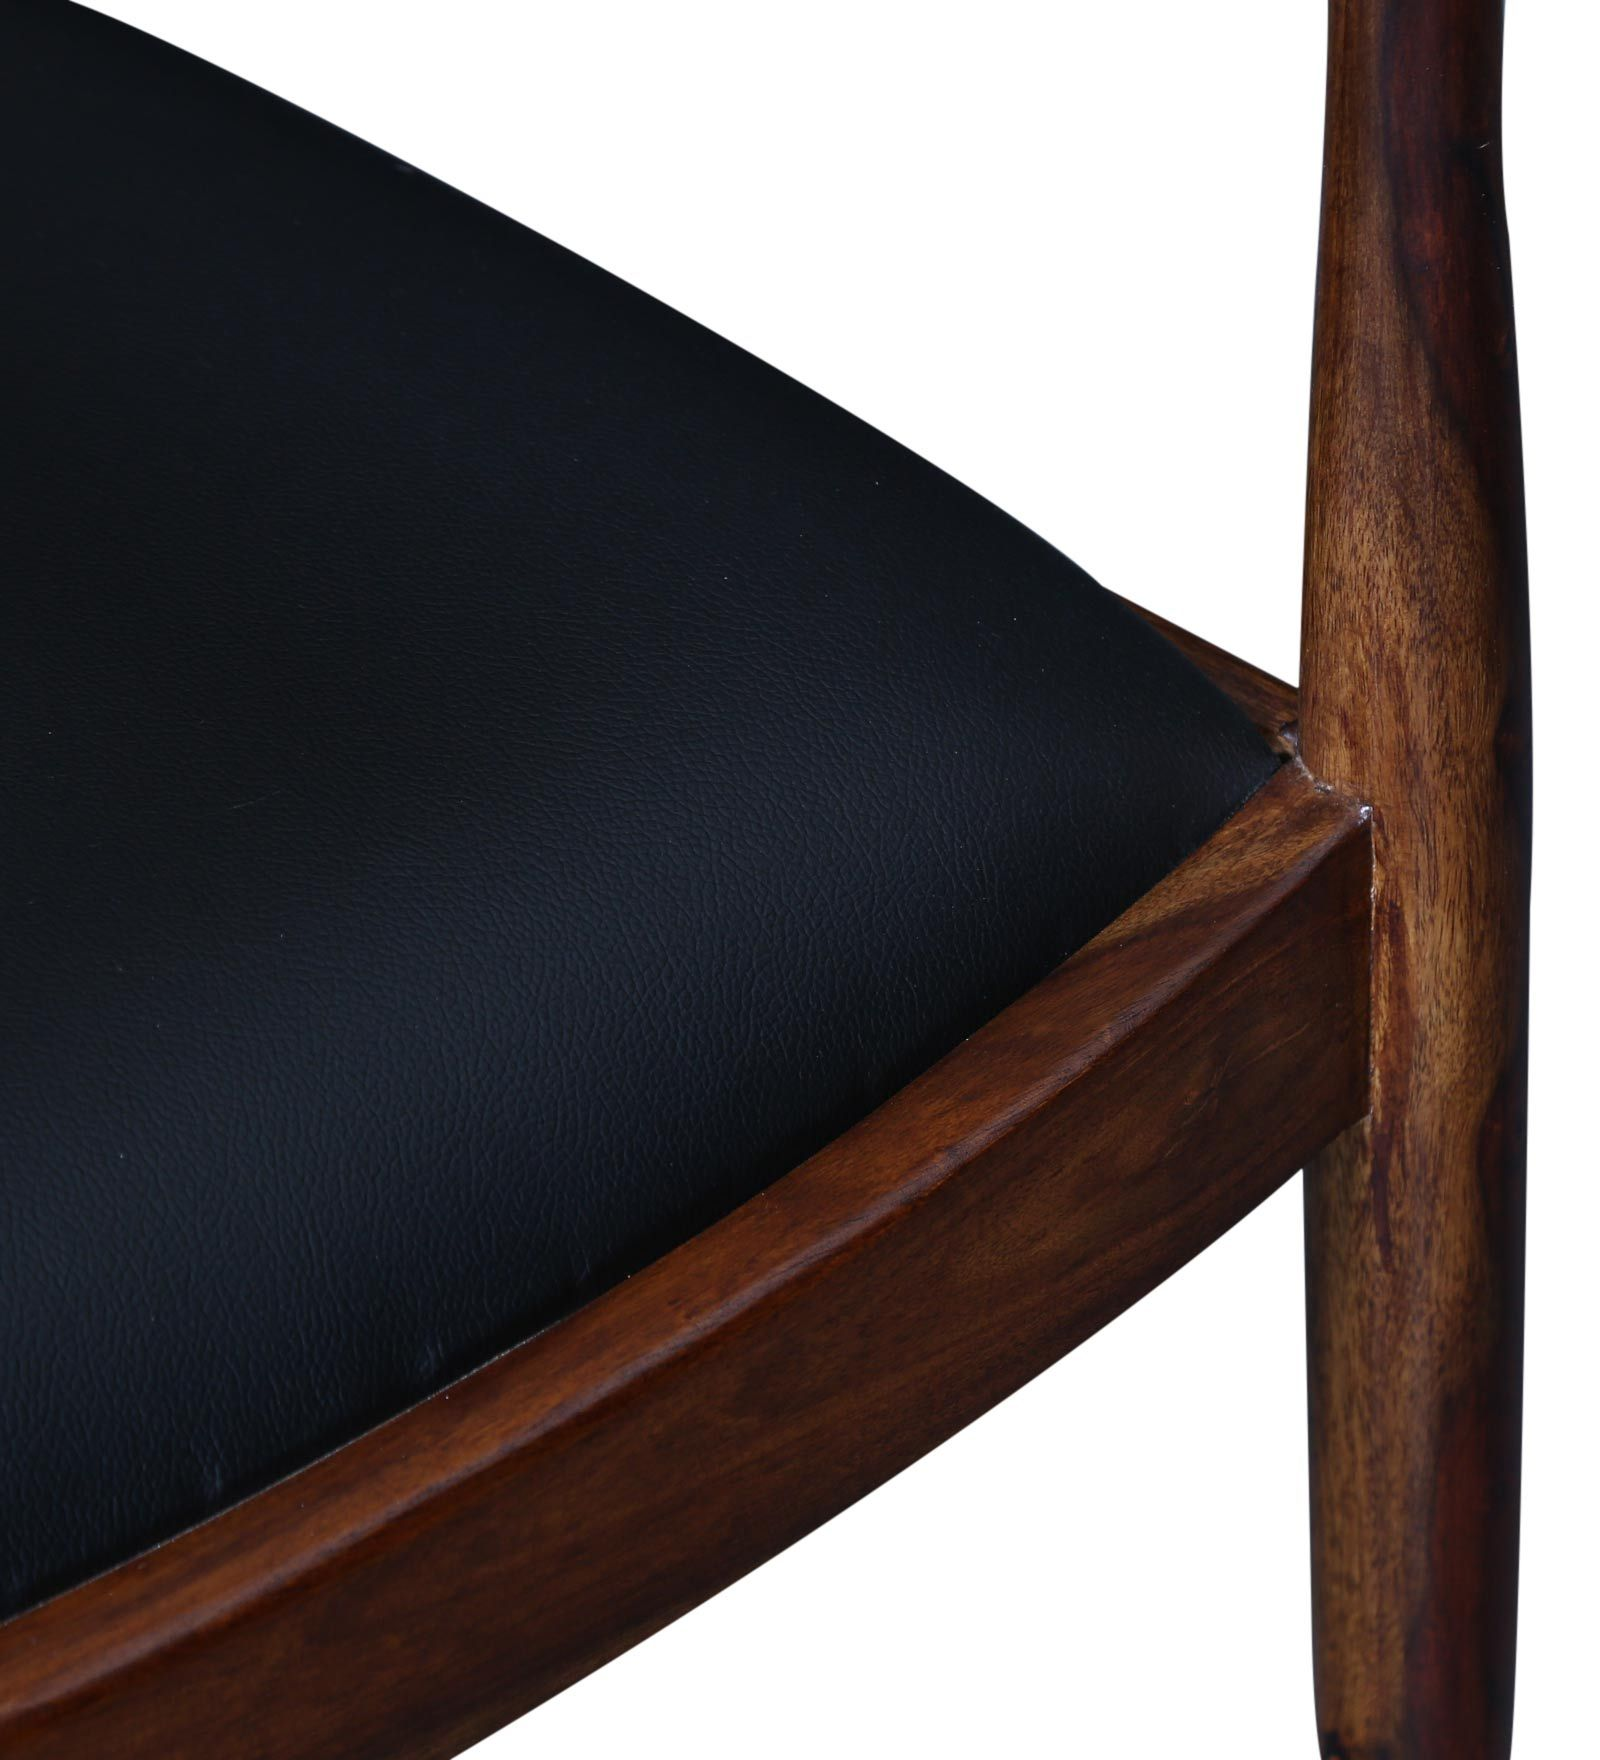Esvelt Arm Chair in Provincial Teak Finish by Woodsworth: (6, 8, 1523, 1760)
